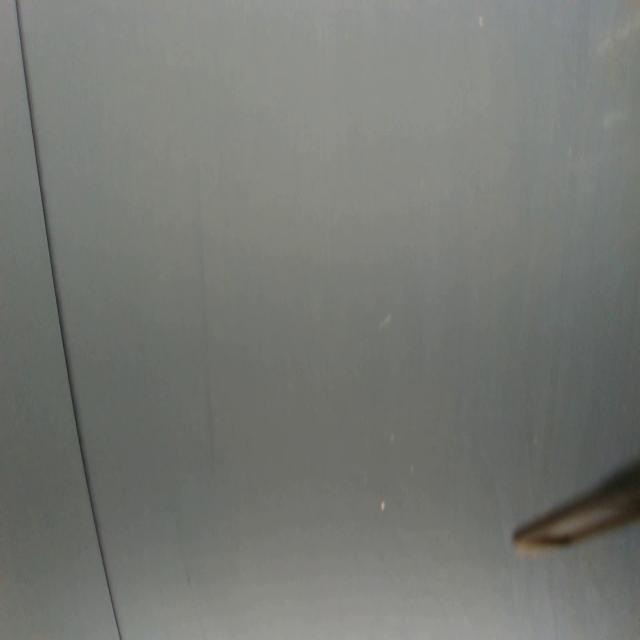crease: (15, 1, 123, 640)
hole: (378, 312, 393, 334), (380, 500, 388, 515), (390, 431, 396, 448), (409, 464, 416, 478), (477, 14, 484, 27)
